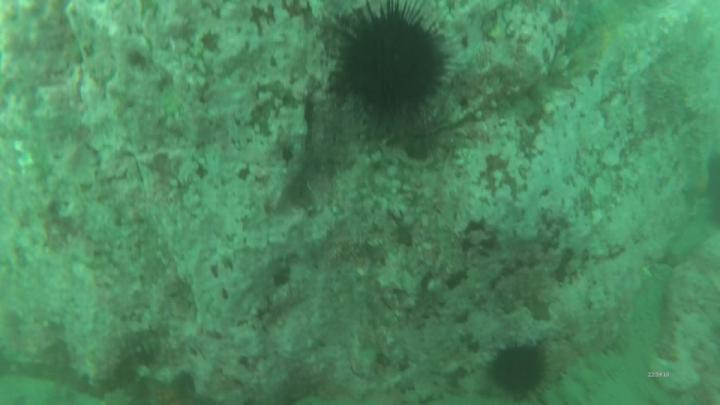echinus: (350, 13, 442, 109), (493, 346, 545, 399)
